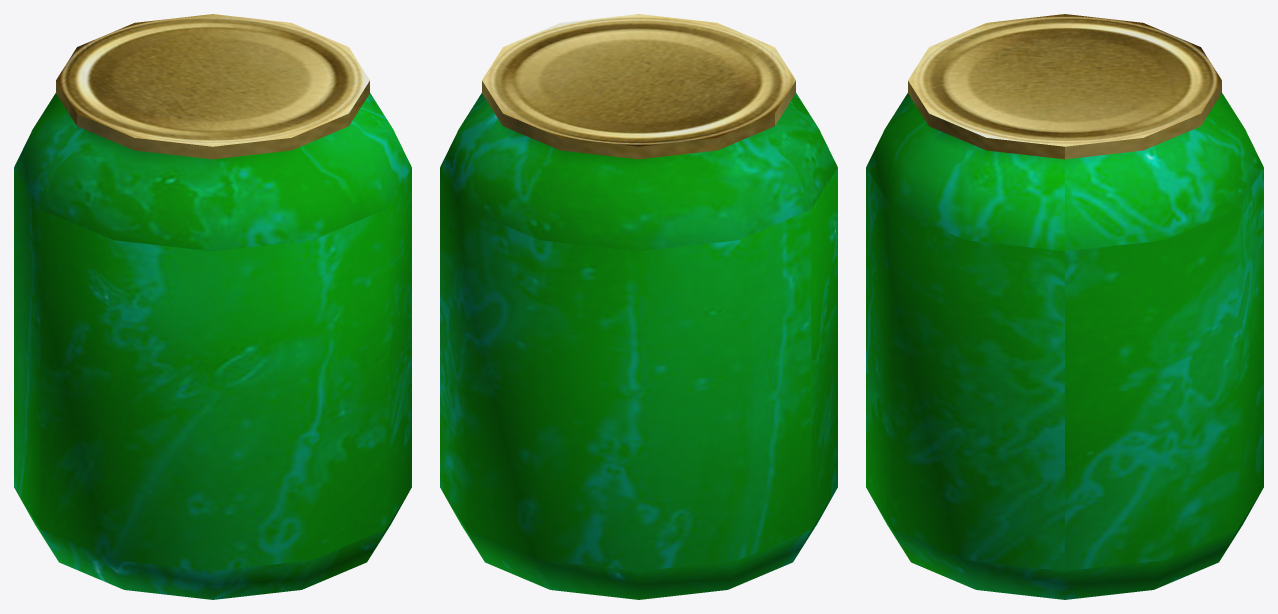
The model's file is Jar1.fbx.
3 views of the same model, side by side, from view 1: azimuth 30°, elevation 25°; view 2: azimuth 150°, elevation 25°; view 3: azimuth 270°, elevation 25° (orthographic).
Visible parts, largest first — view 1: Cylinder.021; view 2: Cylinder.021; view 3: Cylinder.021.
Part boxes in pixels (x1=…): Cylinder.021: x1=14, y1=14, x2=411, y2=599; Cylinder.021: x1=440, y1=14, x2=837, y2=599; Cylinder.021: x1=866, y1=14, x2=1263, y2=599.
Bounding box in the file's own units: 41.85 × 53.32 × 41.85.
2 materials, 2 textured.
